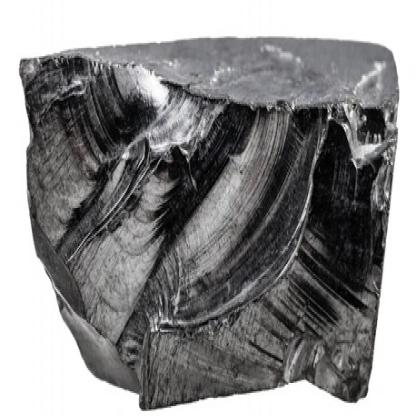Sedimentary_coal: (13, 26, 398, 414)
